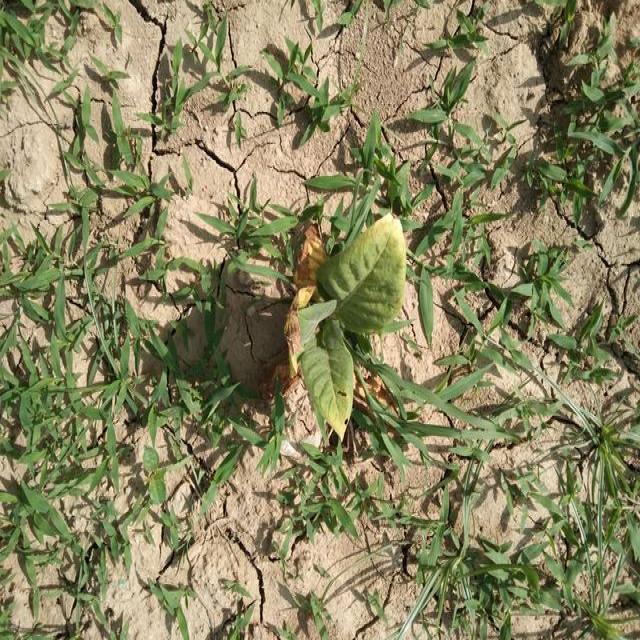crop: (294, 180, 402, 438)
